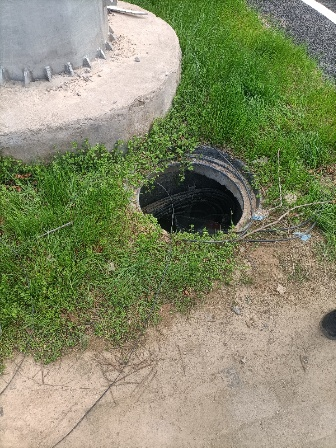lose: (133, 146, 259, 244)
